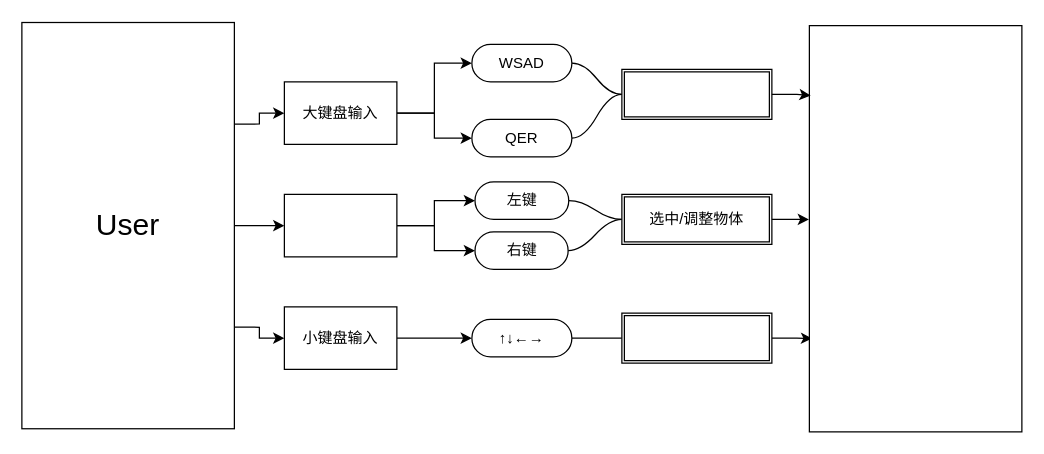
The diagram is 1044 pixels wide and 454 high, and some of its shapes have lost their labels. Each missing label, with the box of its shape:
Game: (808, 24, 1022, 432)
控制选中项: (621, 312, 772, 363)
物体移动/转动: (621, 68, 772, 119)
鼠标输入: (283, 193, 397, 257)
